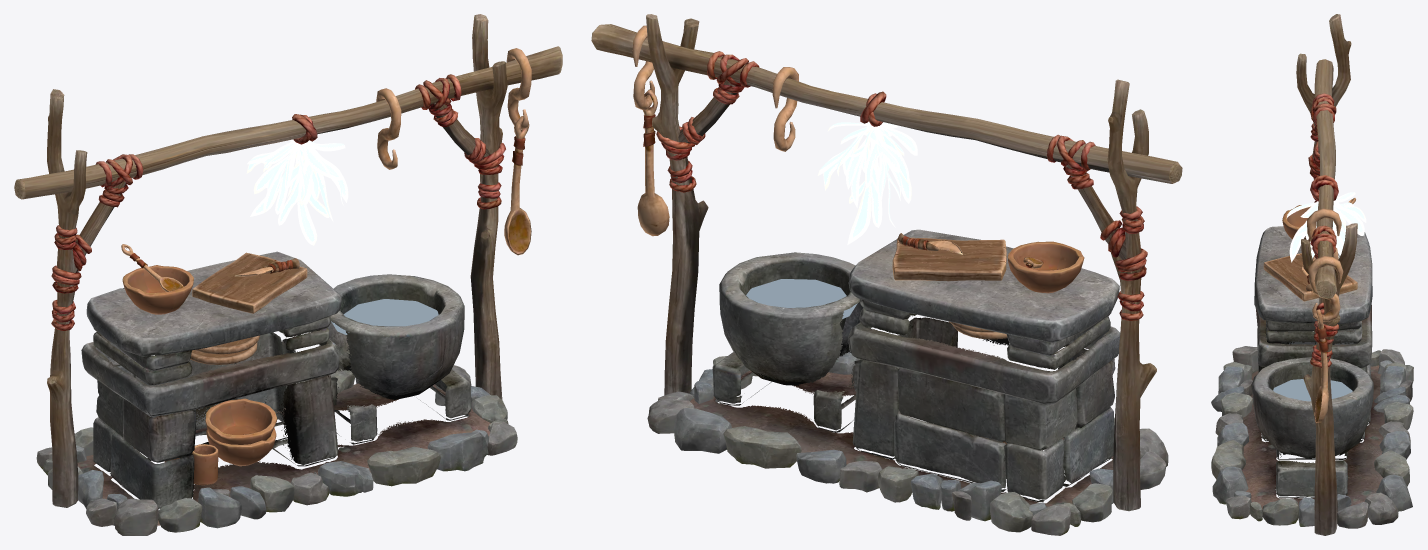
3 renders of one model, left to right at view 1: azimuth 30°, elevation 25°; view 2: azimuth 150°, elevation 25°; view 3: azimuth 270°, elevation 25°, orthographic. The views are drawn at different scales.
Parts seen in each view (by area): view 1: SM_Cooking_Range_02_LOD0; view 2: SM_Cooking_Range_02_LOD0; view 3: SM_Cooking_Range_02_LOD0.
Part boxes in pixels (bbox=[...]): SM_Cooking_Range_02_LOD0: bbox=[14, 14, 562, 535]; SM_Cooking_Range_02_LOD0: bbox=[591, 14, 1182, 535]; SM_Cooking_Range_02_LOD0: bbox=[1211, 14, 1413, 535].
Size of the model in its own units: 2.5 by 1.82 by 0.9592.
3 materials, 3 textured.
